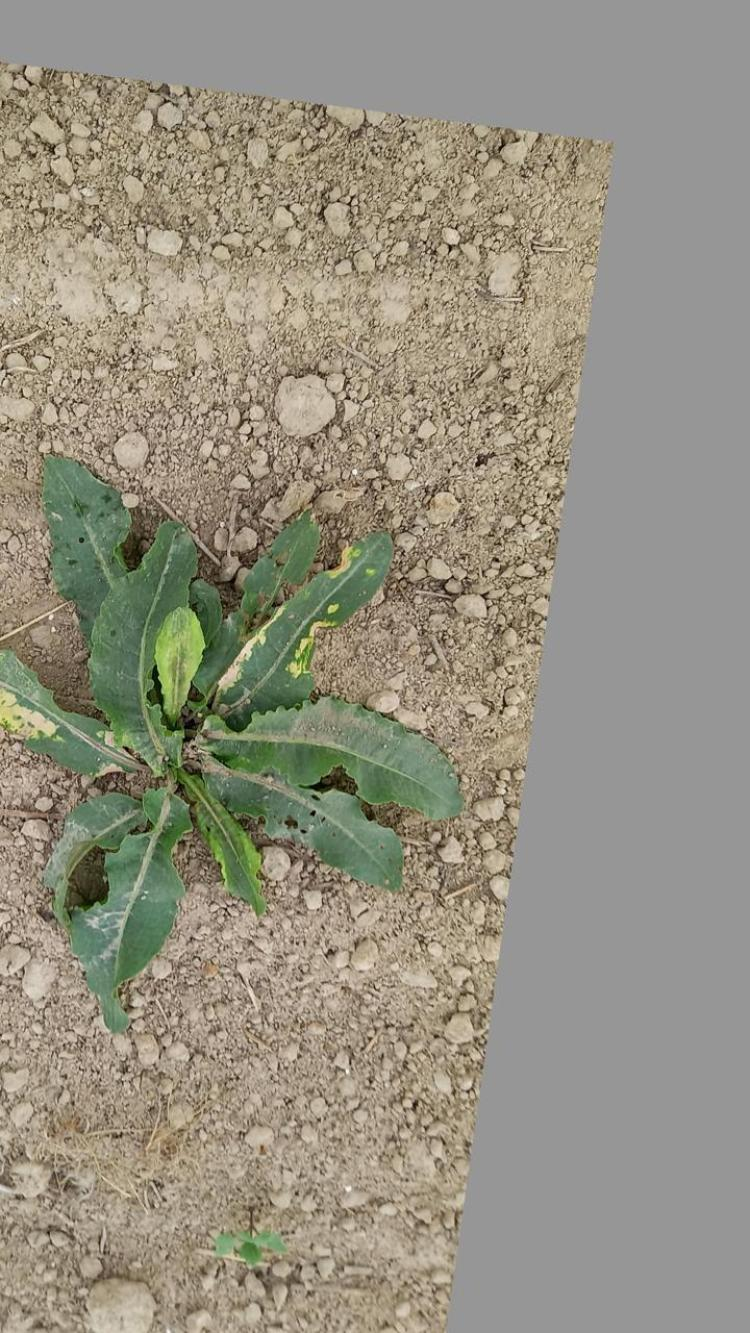zhavel: (0, 431, 473, 1037)
